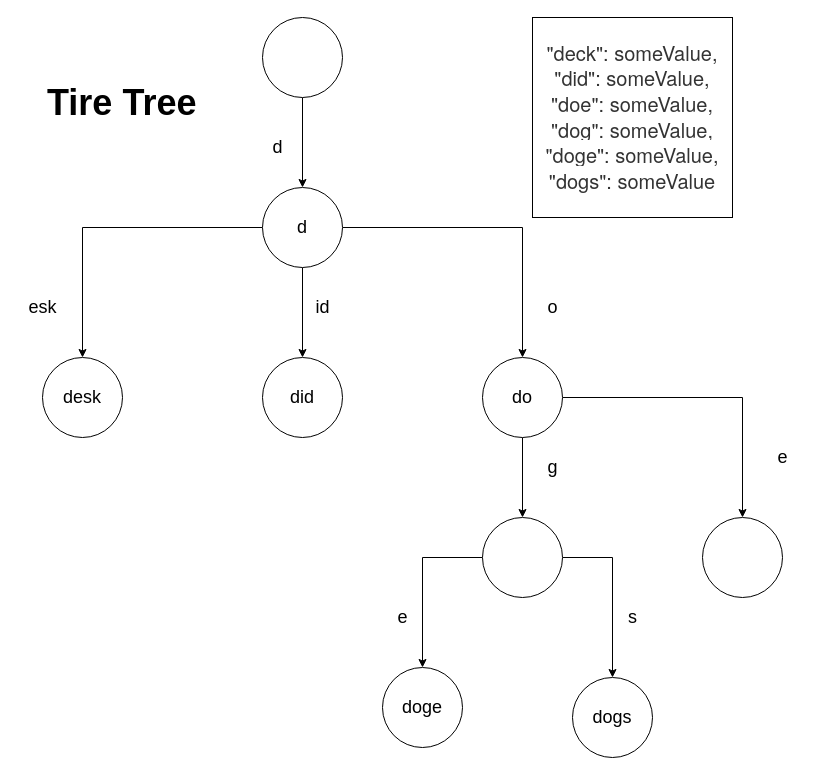
Image size: 814x775. Some labels were removed from this diagram. Each missing label, with the centre of its shape:
doe: the point at 742,557
dog: the point at 522,557
